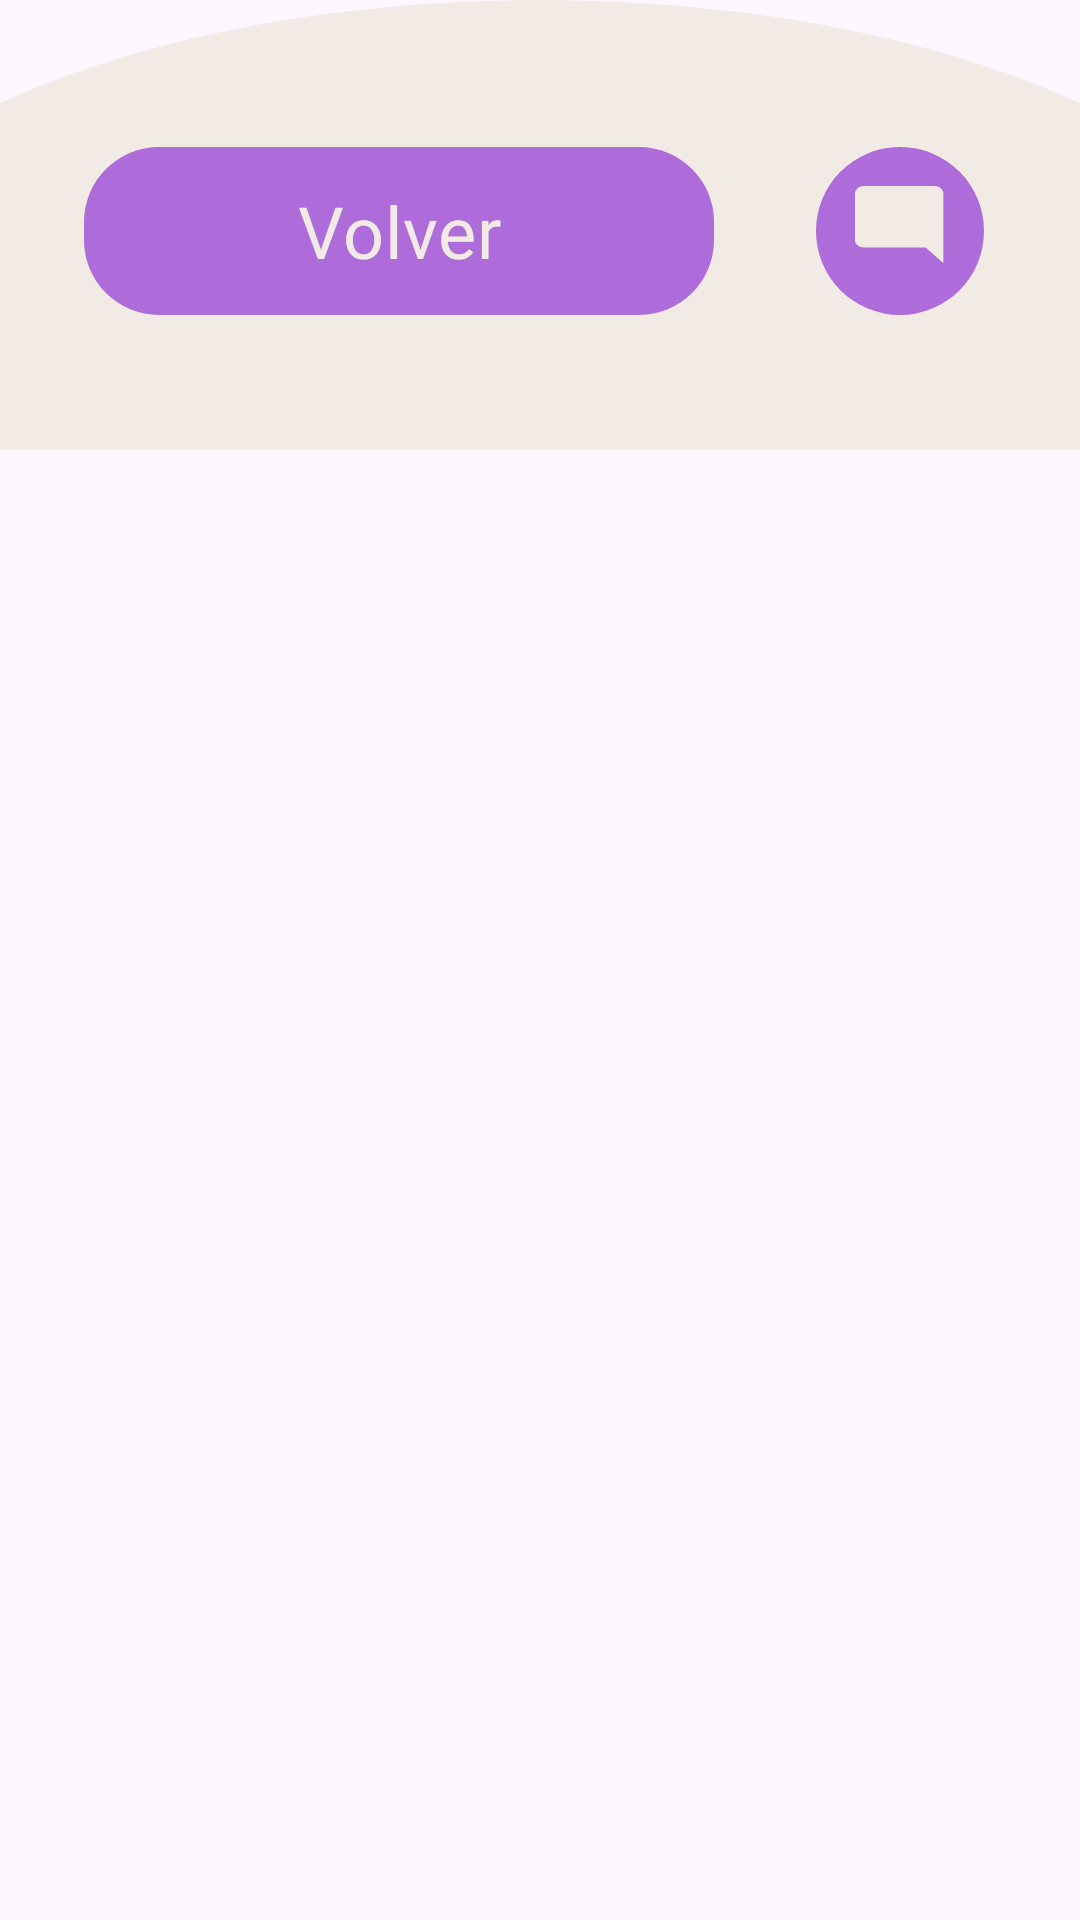

Screen size 1080*1920. Icon name, then its box in pixels as {"x1": x1, "y1": y1, "x2": x2, "y2": y2}:
chat: {"x1": 816, "y1": 147, "x2": 984, "y2": 315}
